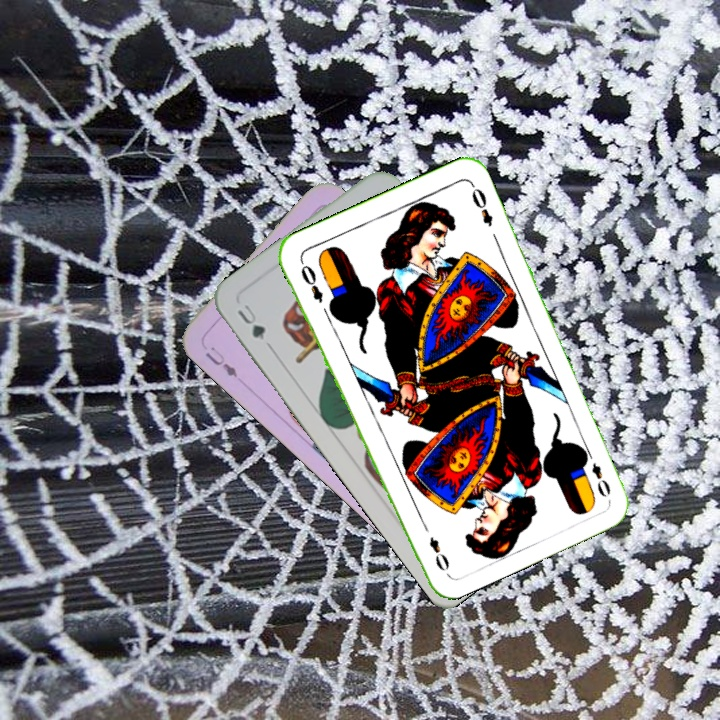EO: (580, 445, 613, 501), (296, 256, 326, 305)
EU: (200, 342, 240, 380)
GU: (233, 300, 268, 343)
